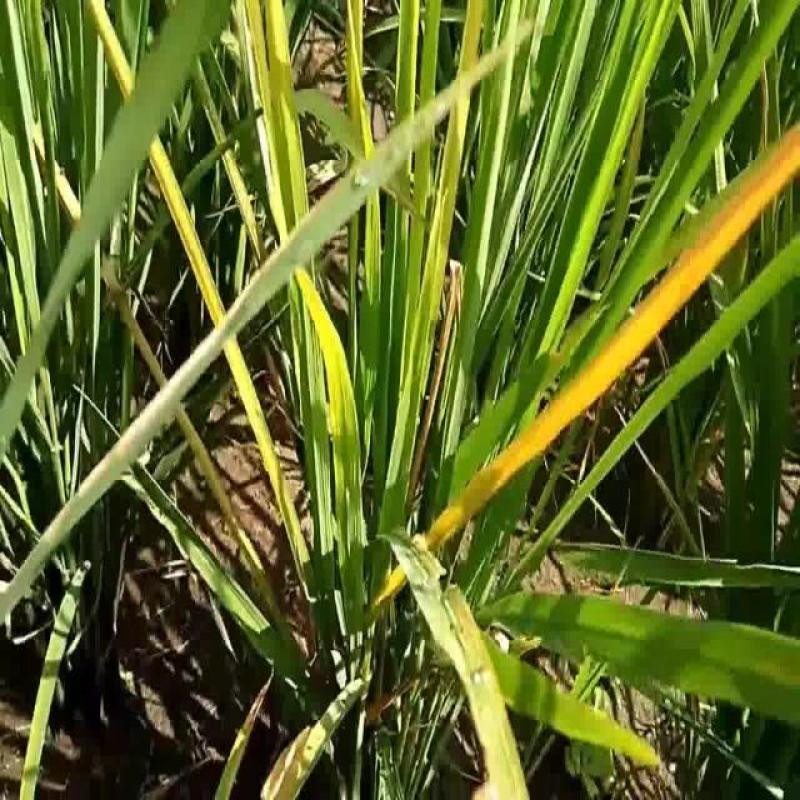Rice Tungro: (428, 115, 798, 560), (82, 1, 228, 324), (235, 4, 351, 381), (416, 4, 489, 365), (346, 1, 392, 291)
